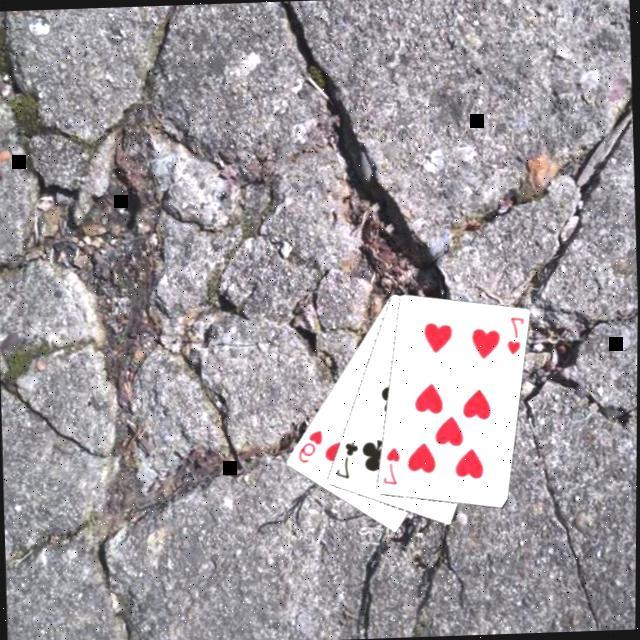6H: (292, 426, 324, 465)
7C: (329, 437, 360, 480)
7H: (376, 442, 401, 487), (500, 312, 525, 357)
